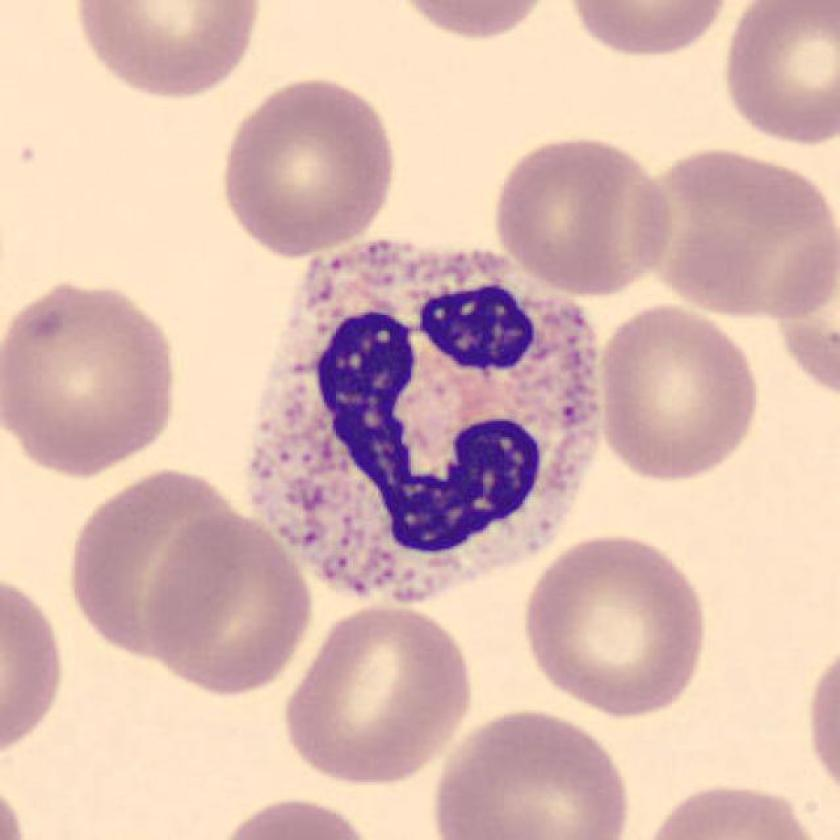neutrophil: (249, 240, 602, 603)
